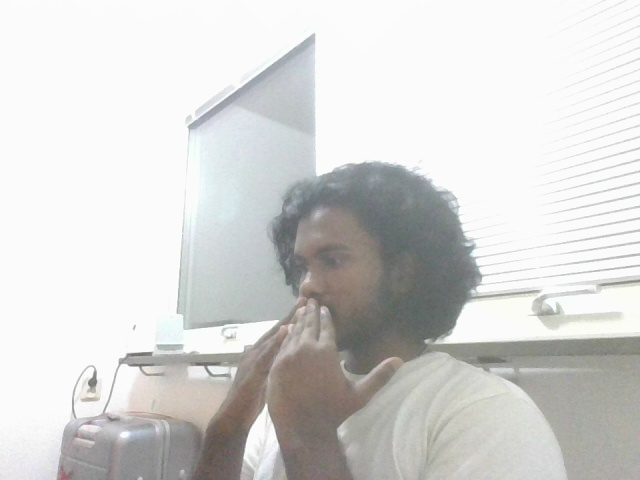Thanks: (207, 295, 407, 432)
